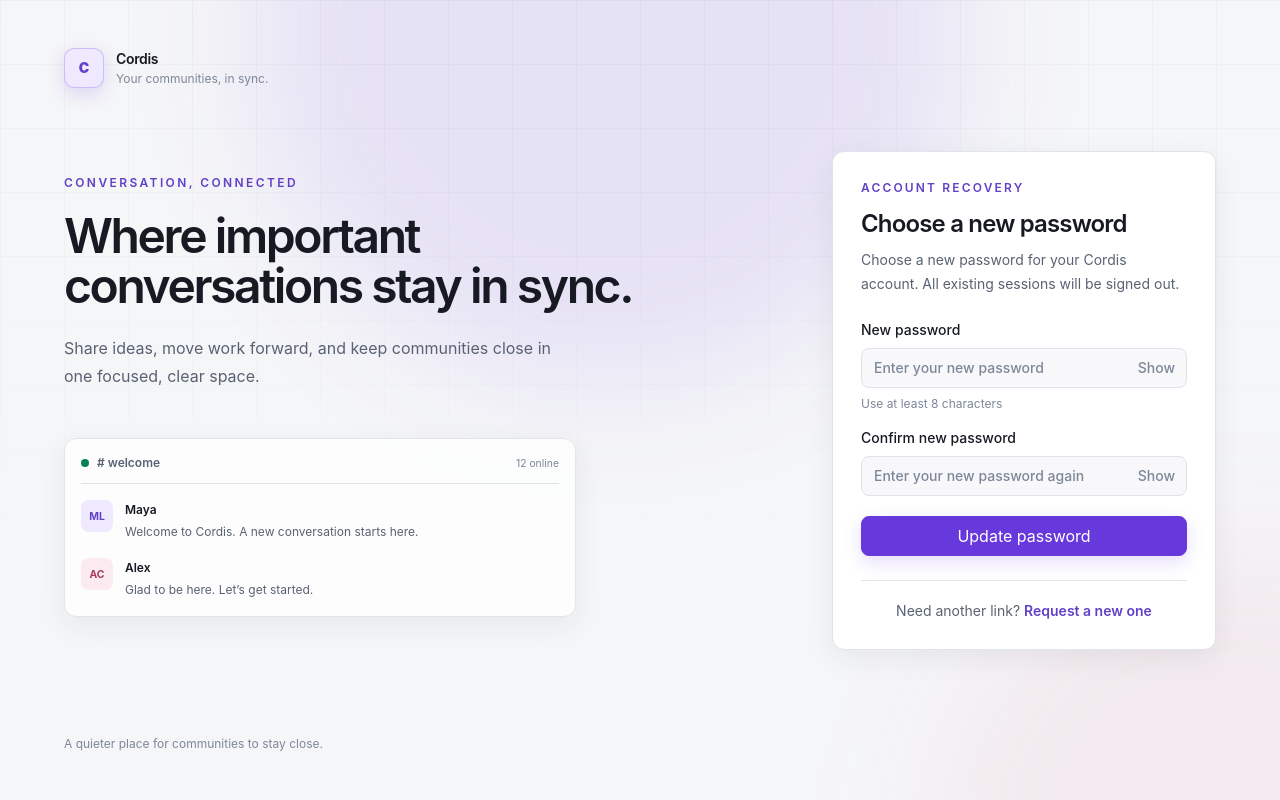
Scenario: authentication pages › sets a new password from a reset link
The image size is (1280, 800).
Type "new-cordis-password" into the password field labelled "New password Show Use at least 8 characters" at (1024, 368), box [861,348,1187,388]
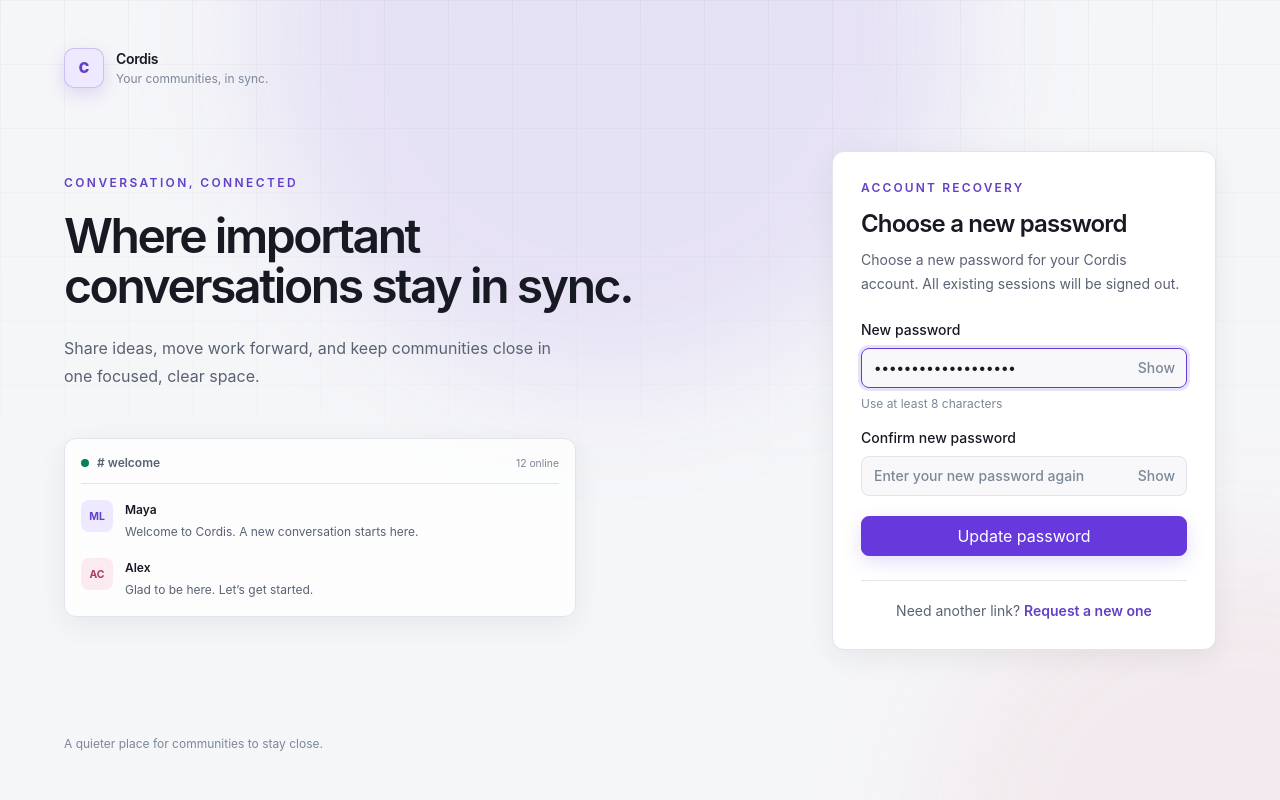
Type "new-cordis-password" into the password field labelled "Confirm new password Show" at (1024, 476), box [861,456,1187,496]
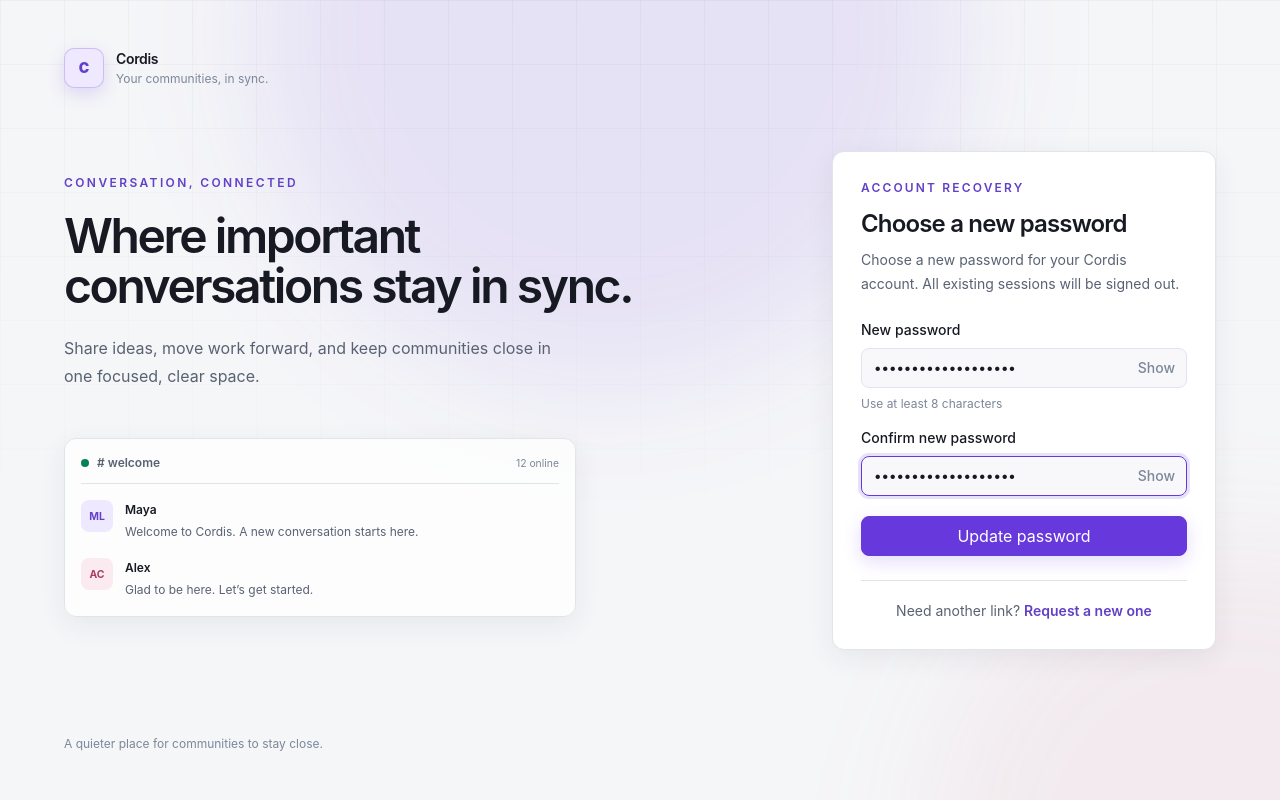
Click the button "Update password" at (1024, 536), box [861,516,1187,556]
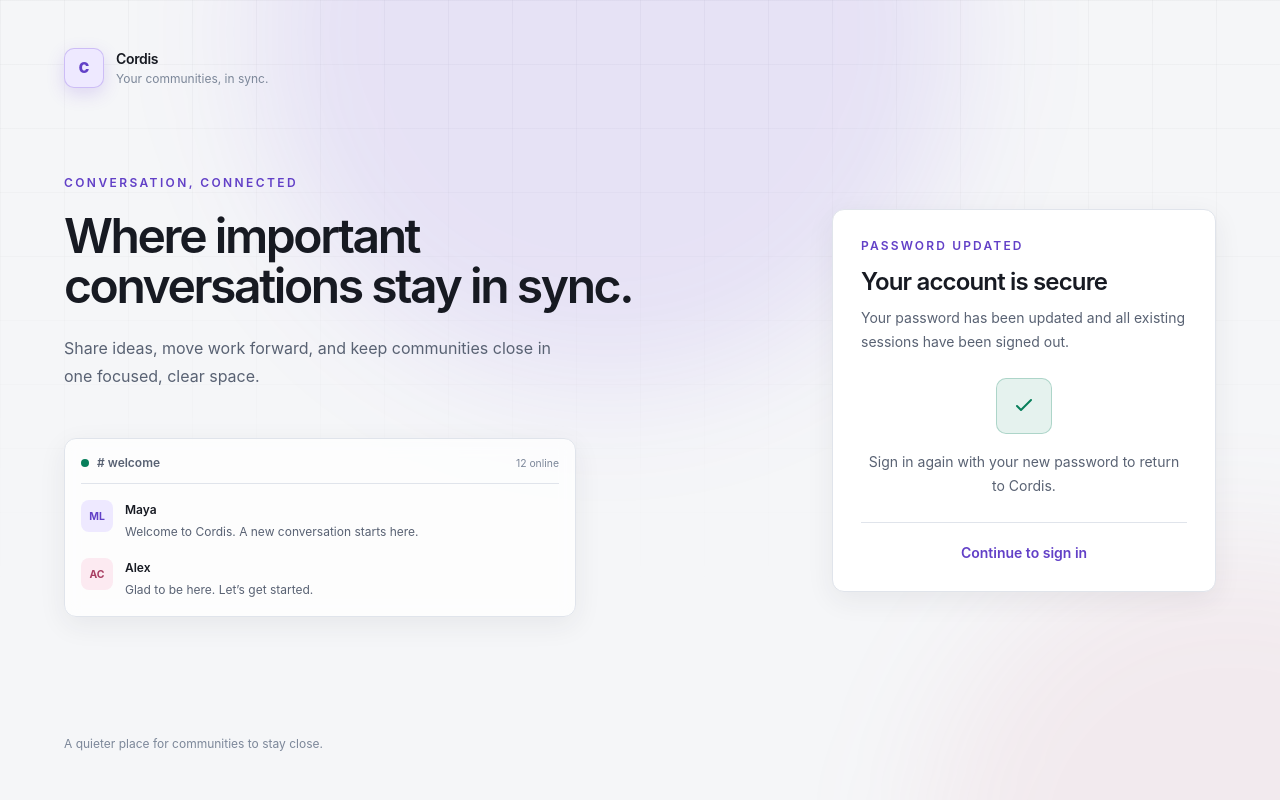
Result: the heading "Your account is secure" is shown at [861,266,1107,296]
